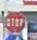stop: (3, 10, 27, 32)
